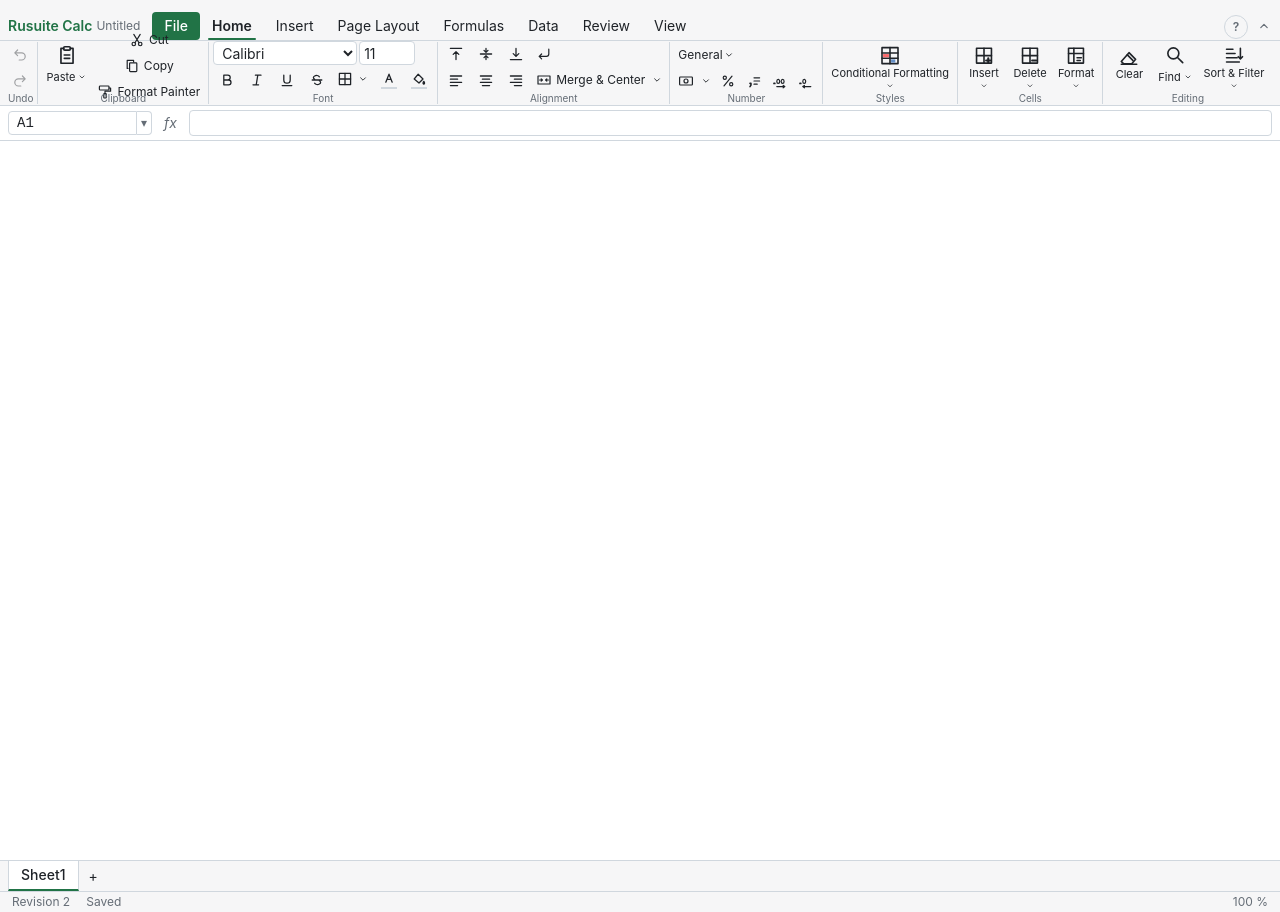
Test case: enter vs edit mode › F4 cycles the anchoring of the reference at the caret
The width and height of the screenshot is (1280, 912).
Expected: the tab "Sheet1" is shown, [8,861,78,891]
Press = in the table with test id "grid"
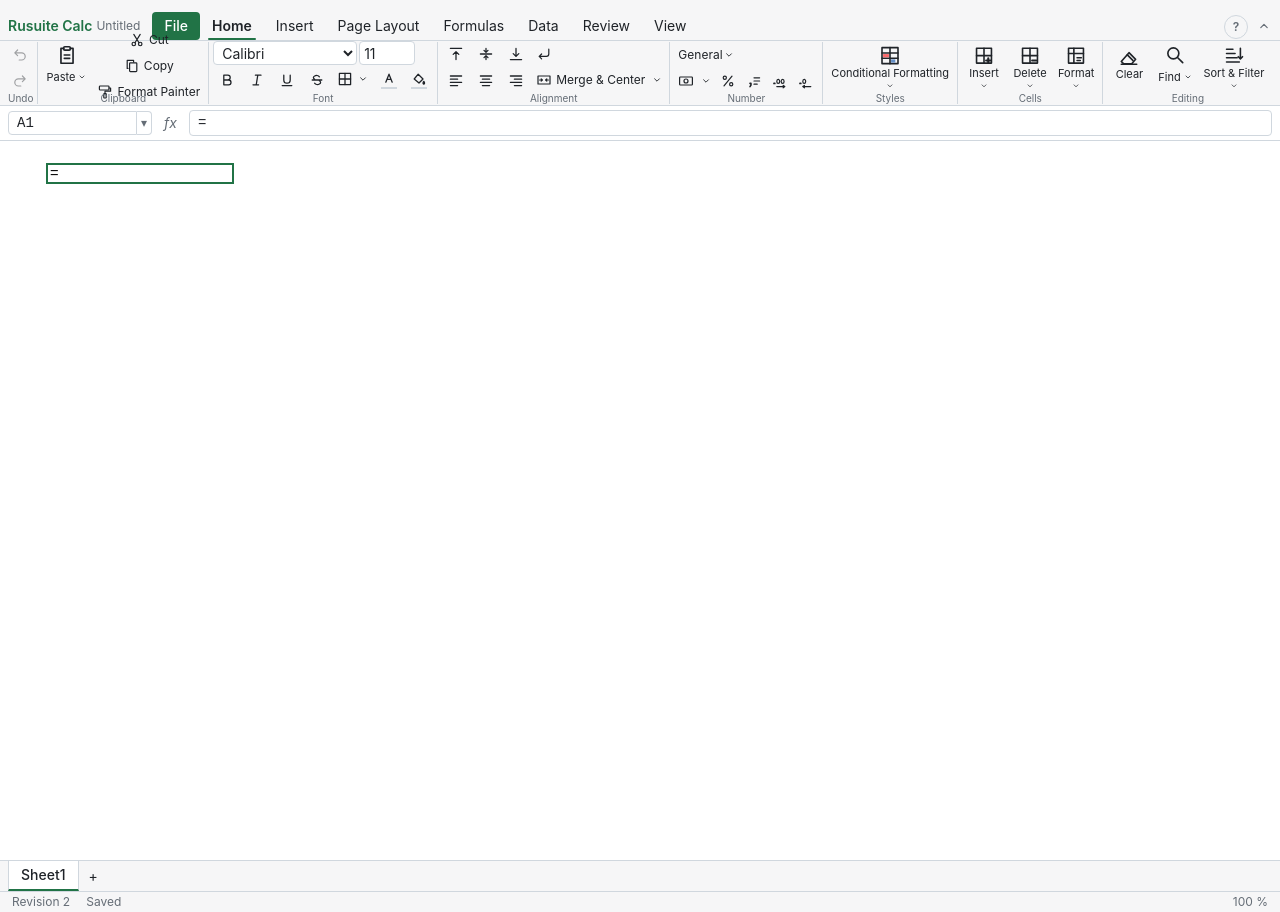
Replace the text in the text box with test id "cell-editor" with "=A1" at (140, 174), box [46,163,234,184]
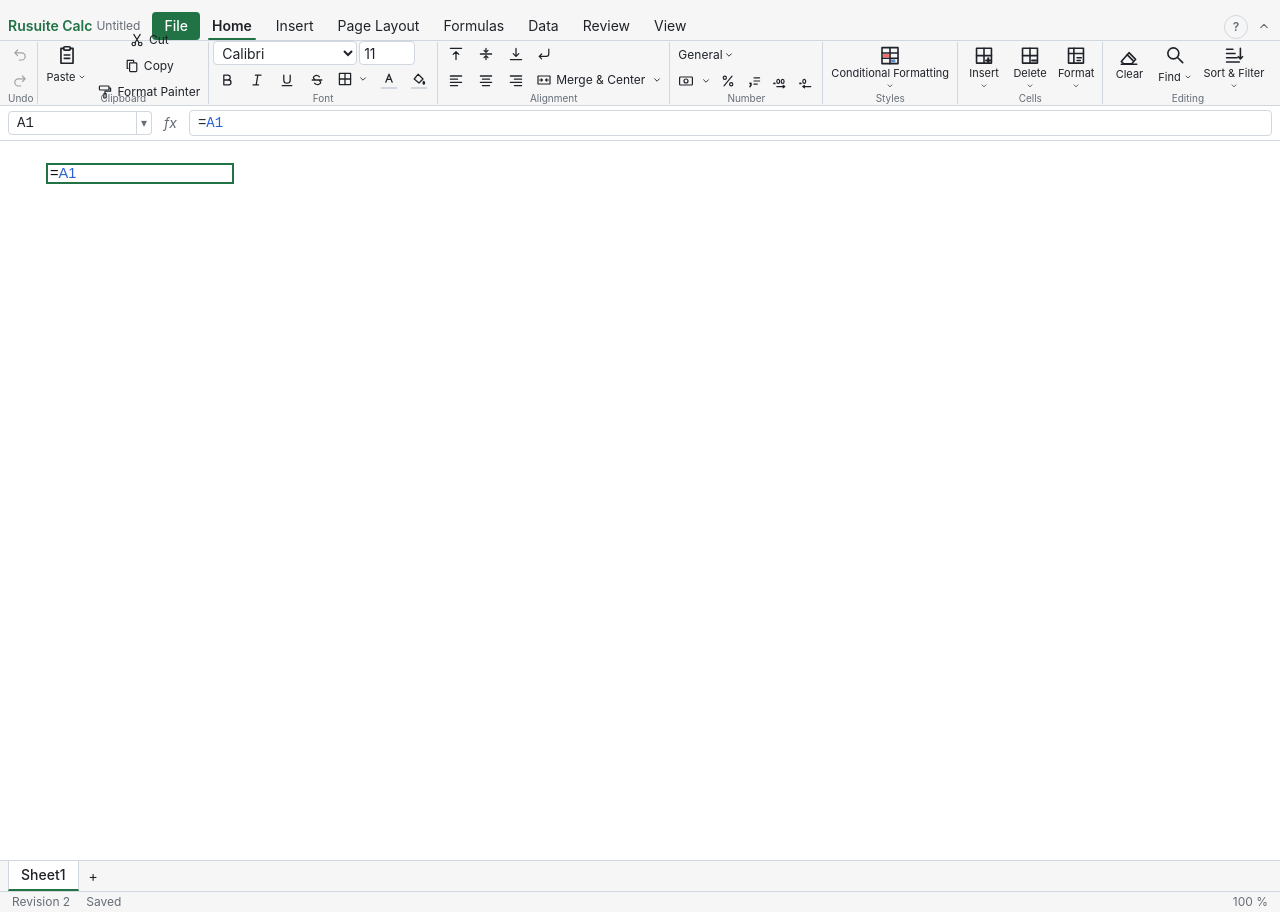
Press F4 in the text box with test id "cell-editor", box [46,163,234,184]
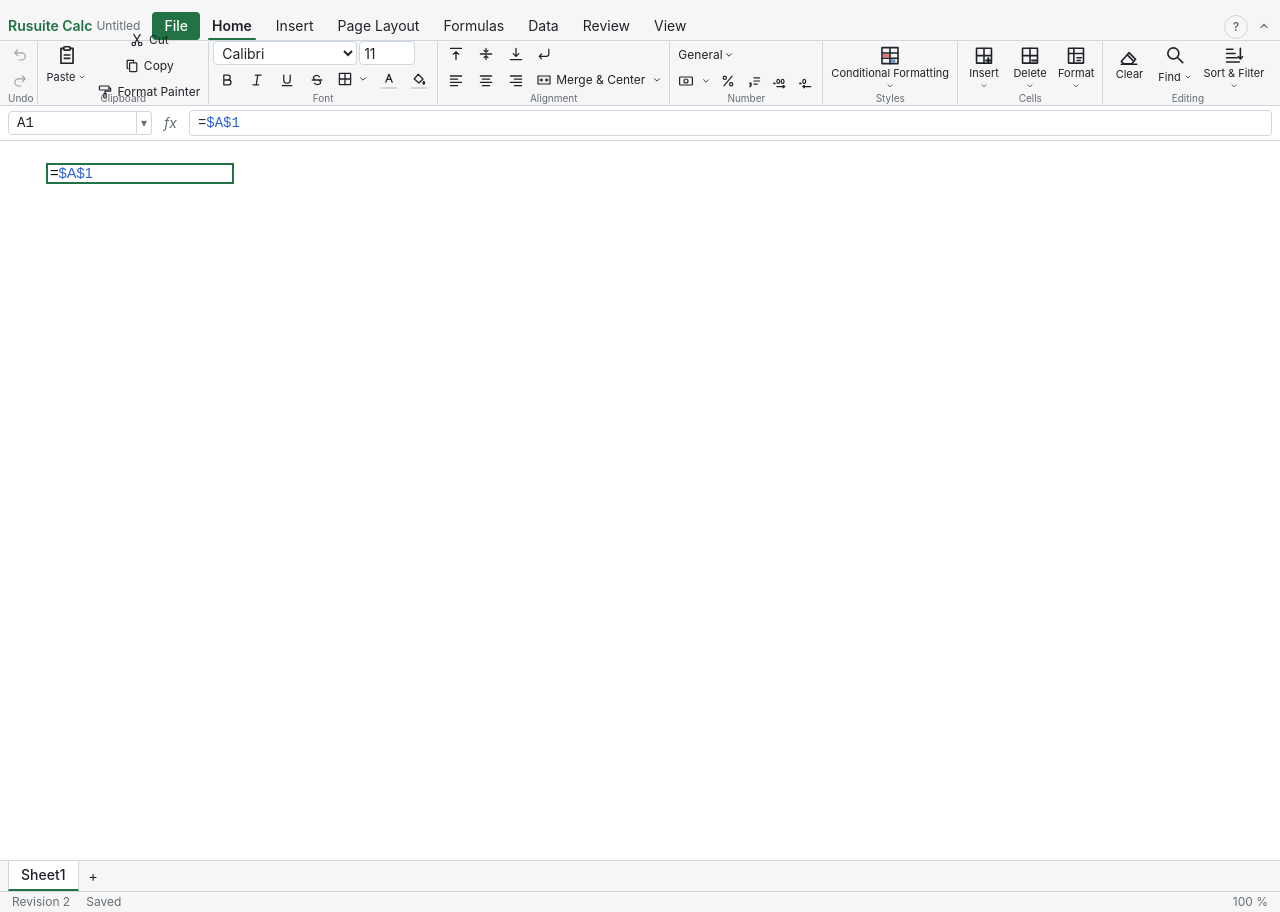
Now the text box with test id "cell-editor" holds "=$A$1"
Press F4 in the text box with test id "cell-editor", box [46,163,234,184]
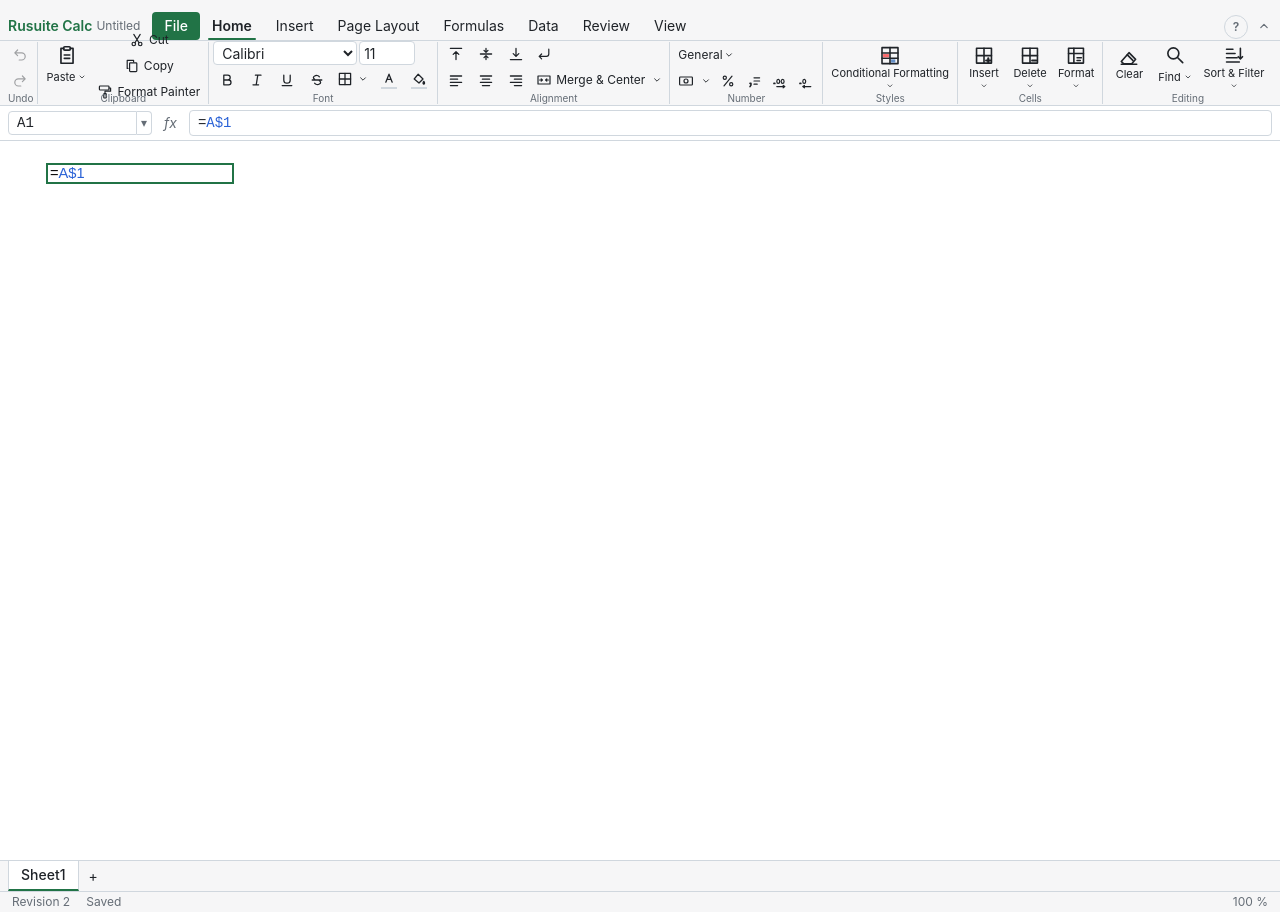
Now the text box with test id "cell-editor" holds "=A$1", box [46,163,234,184]
